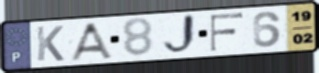6: (251, 10, 284, 49)
8: (120, 16, 158, 59)
A: (67, 21, 115, 63)
F: (209, 11, 246, 53)
J: (161, 12, 199, 58)
K: (35, 25, 66, 63)
